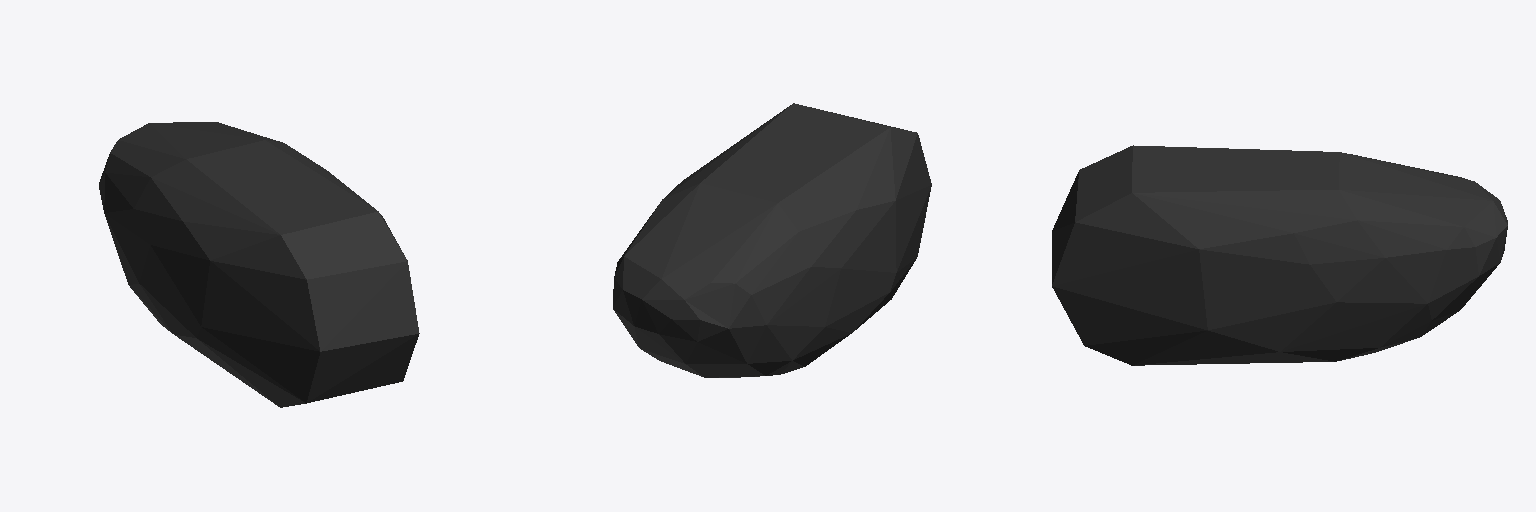
Rendered from ring_dist_col.obj.
3 views of the same model, side by side, from view 1: azimuth 30°, elevation 25°; view 2: azimuth 150°, elevation 25°; view 3: azimuth 270°, elevation 25° (orthographic).
Size of the model in its own units: 0.0176 by 0.0159 by 0.038.